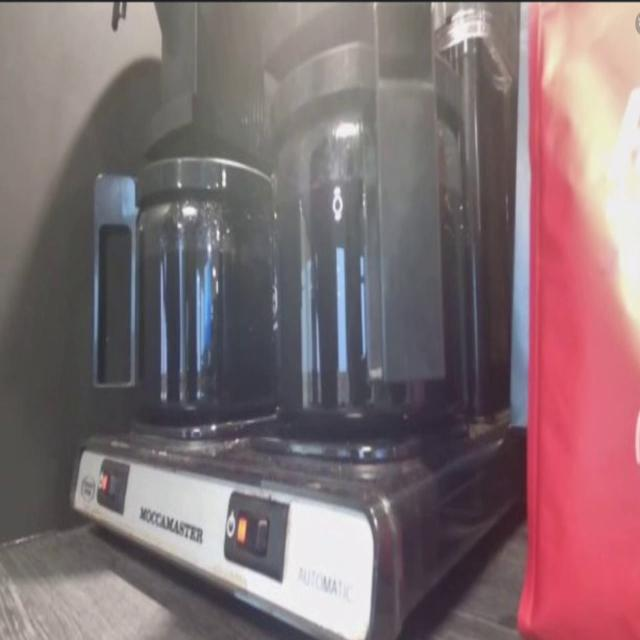coffee: (276, 116, 463, 424), (129, 204, 273, 413)
